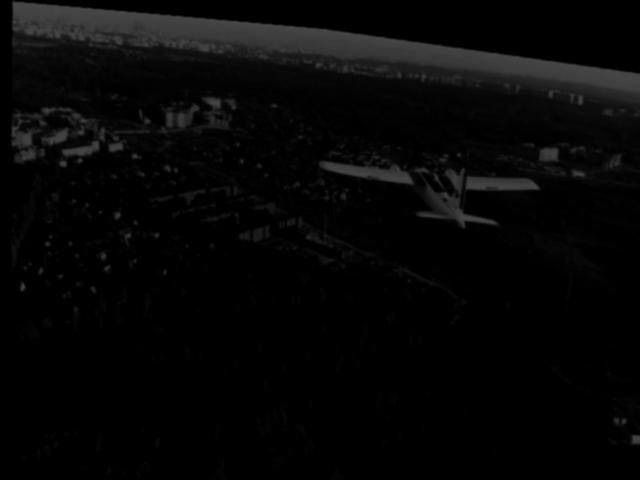hedef: (307, 125, 546, 245)
